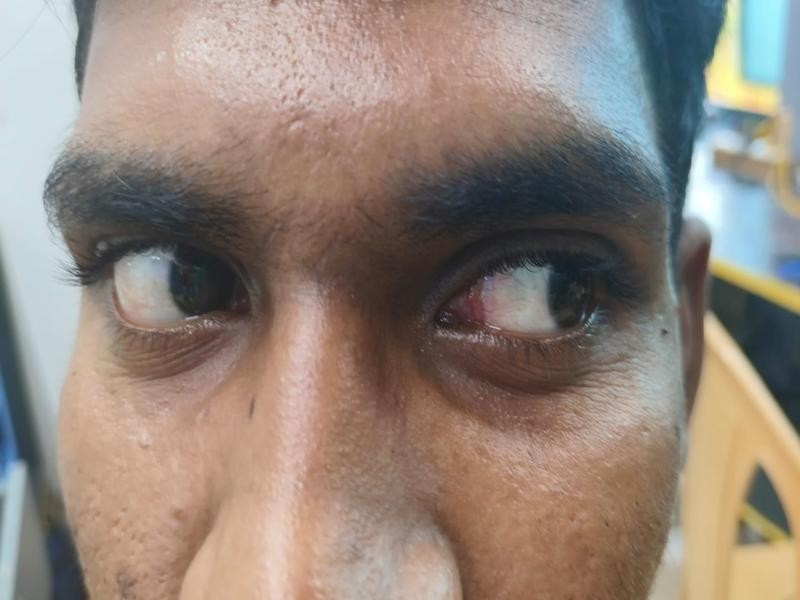EYE LEFT: (451, 245, 605, 340), (92, 236, 244, 332)
